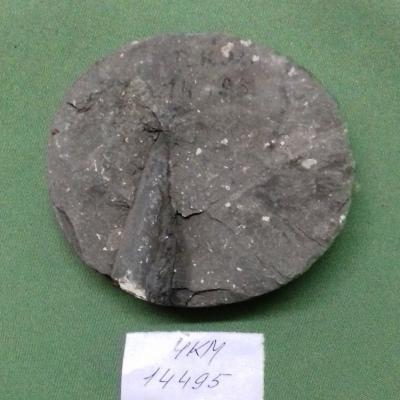mineralogy: (48, 34, 353, 307)
